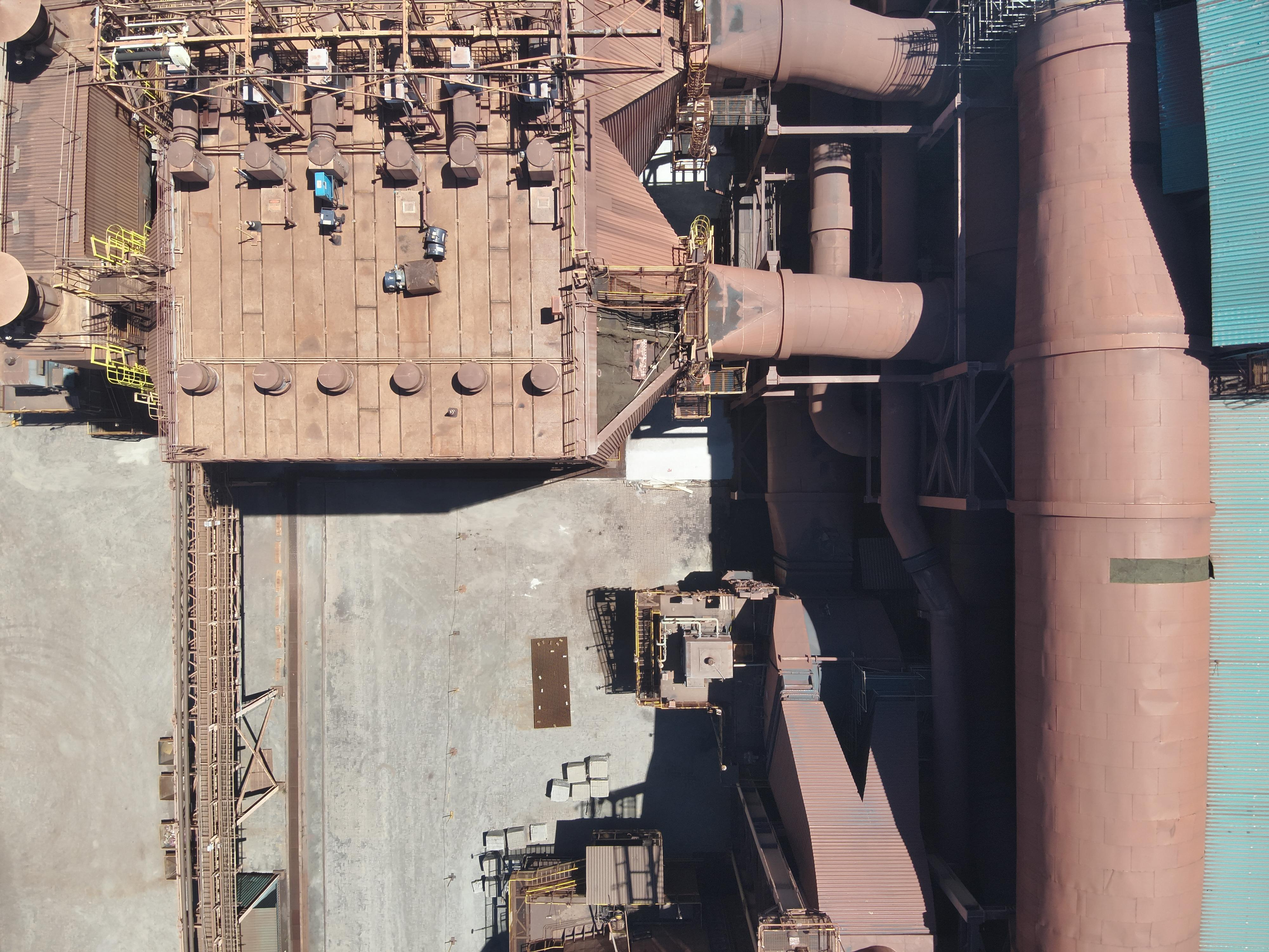Failures: (593, 287, 684, 438), (1109, 553, 1218, 587)
